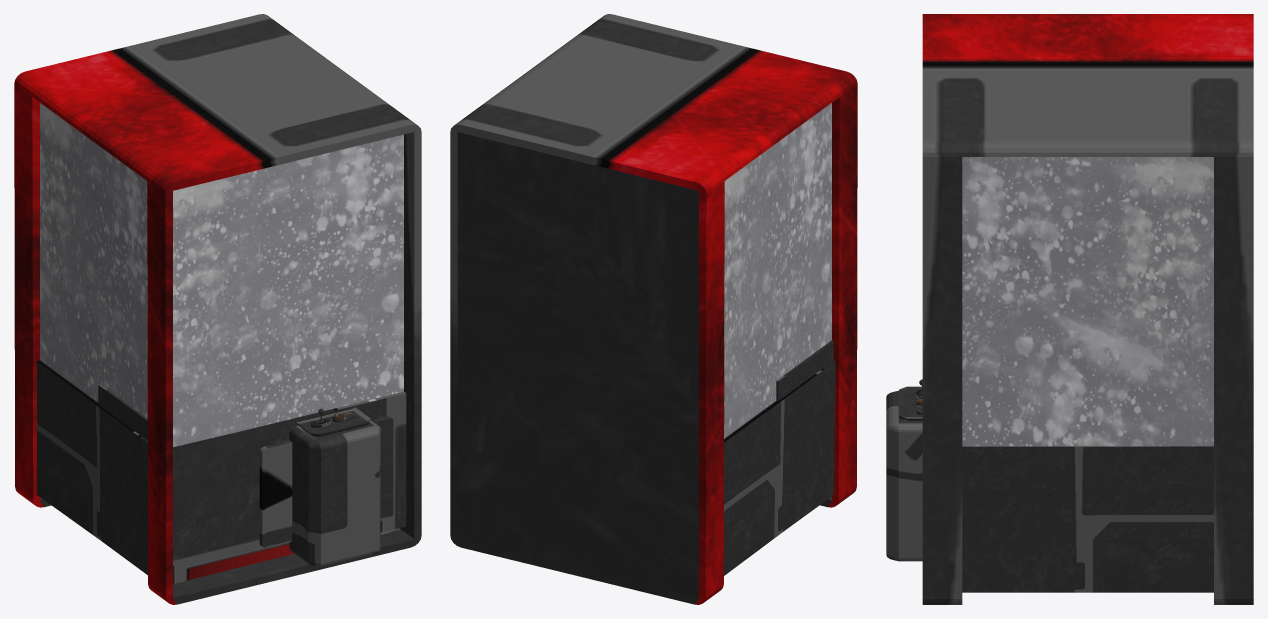
File: claw_arcade_animated_.glb_v1.0_free_low_poly.fbx
The picture shows the model from 3 angles, left to right: view 1: azimuth 30°, elevation 25°; view 2: azimuth 150°, elevation 25°; view 3: azimuth 270°, elevation 25°; orthographic projection. The views are drawn at different scales.
Parts seen in each view (by area): view 1: Object_4, Object_6; view 2: Object_4, Object_6; view 3: Object_4, Object_6.
Part boxes in pixels (left/top/right/bottom): Object_4: left=14, top=14, right=421, bottom=604; Object_6: left=40, top=103, right=403, bottom=447; Object_4: left=450, top=14, right=857, bottom=604; Object_6: left=724, top=103, right=831, bottom=438; Object_4: left=886, top=14, right=1253, bottom=604; Object_6: left=962, top=157, right=1213, bottom=446.
Bounding box in the file's own units: 549 × 866 × 623.
Materials: 3 (3 with a texture image).
